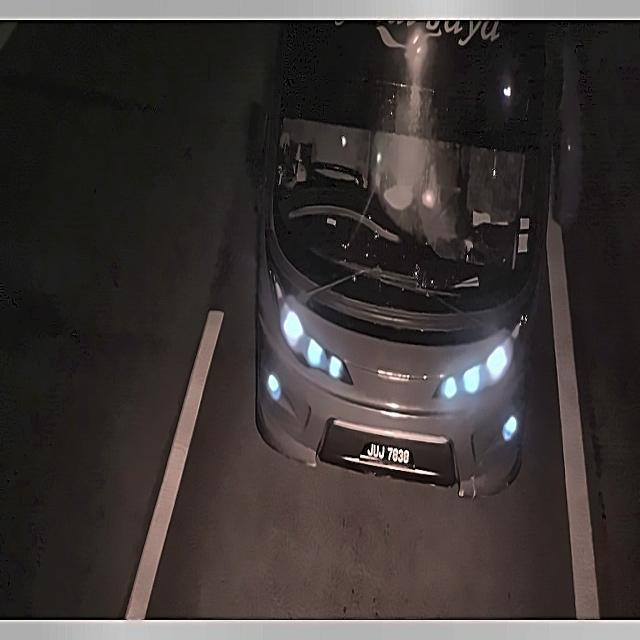car: (360, 428, 418, 475)
